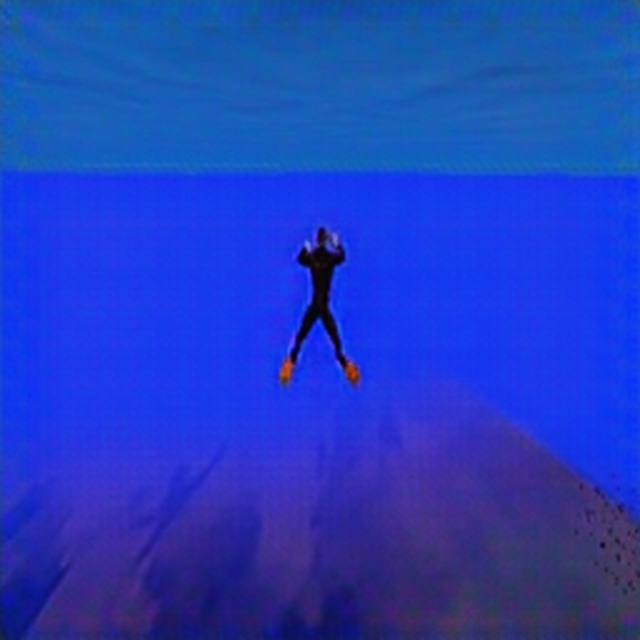diver: (282, 218, 359, 388)
